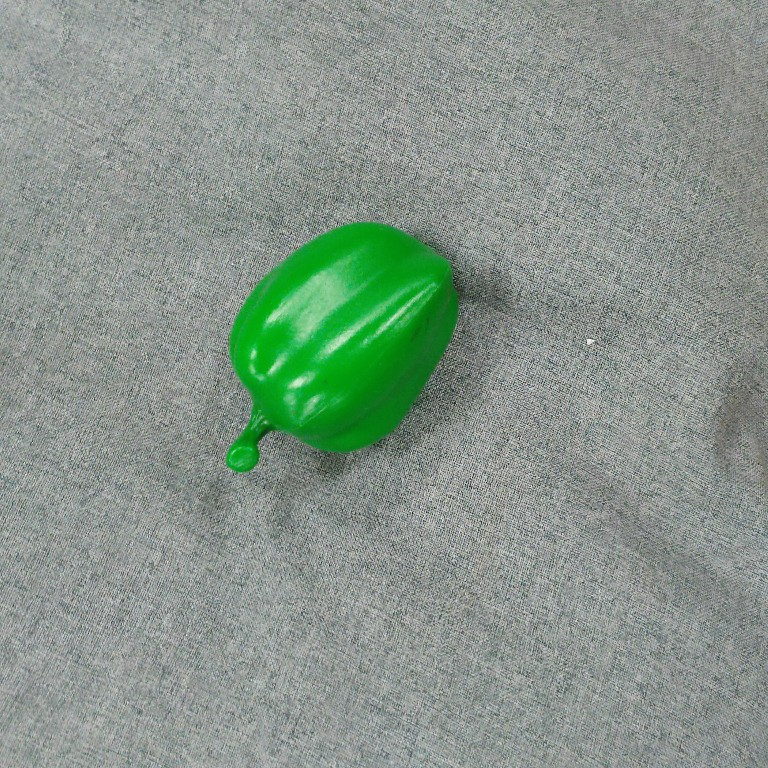fruit_pepper: (219, 217, 466, 483)
